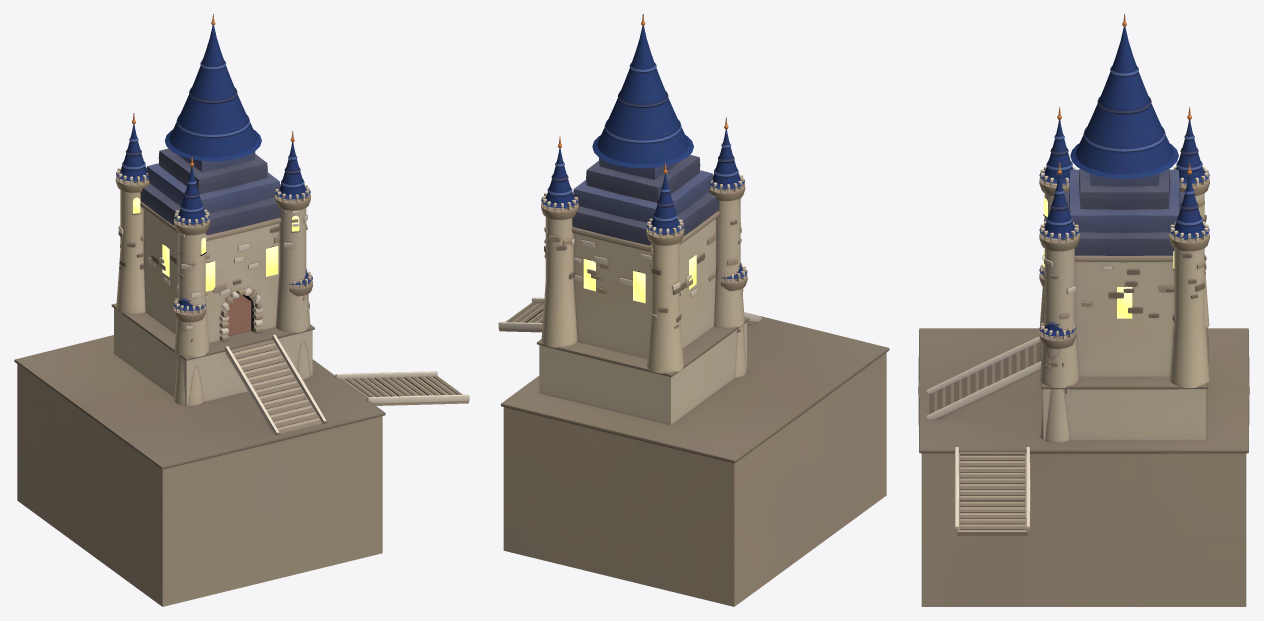
File: castle_keep.glb
3 renders of one model, left to right at view 1: azimuth 30°, elevation 25°; view 2: azimuth 150°, elevation 25°; view 3: azimuth 270°, elevation 25°, orthographic. The views are drawn at different scales.
Visible parts, largest first — view 1: main, glow; view 2: main, glow; view 3: main, glow.
Boxes of the visible parts, x1=… form: main: x1=14, y1=14, x2=469, y2=606; glow: x1=133, y1=197, x2=299, y2=291; main: x1=498, y1=14, x2=889, y2=606; glow: x1=583, y1=255, x2=696, y2=303; main: x1=918, y1=14, x2=1249, y2=606; glow: x1=1043, y1=198, x2=1174, y2=318.
Size of the model in its own units: 41.35 by 59.75 by 32.6.
2 materials, 1 textured.
